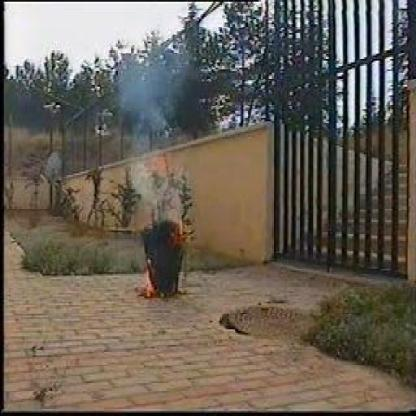-: (116, 51, 180, 124)
foggia-v2-map80-epoch100 - v1 4323: (172, 220, 190, 242)
